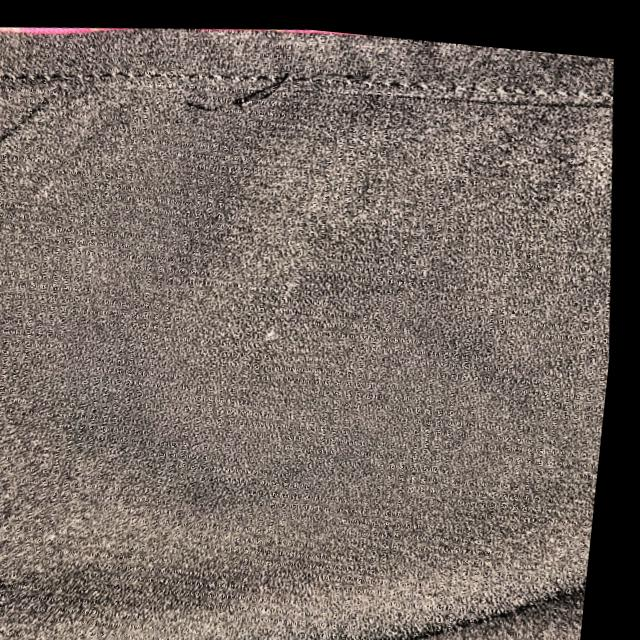Stitch: (162, 13, 332, 150)
